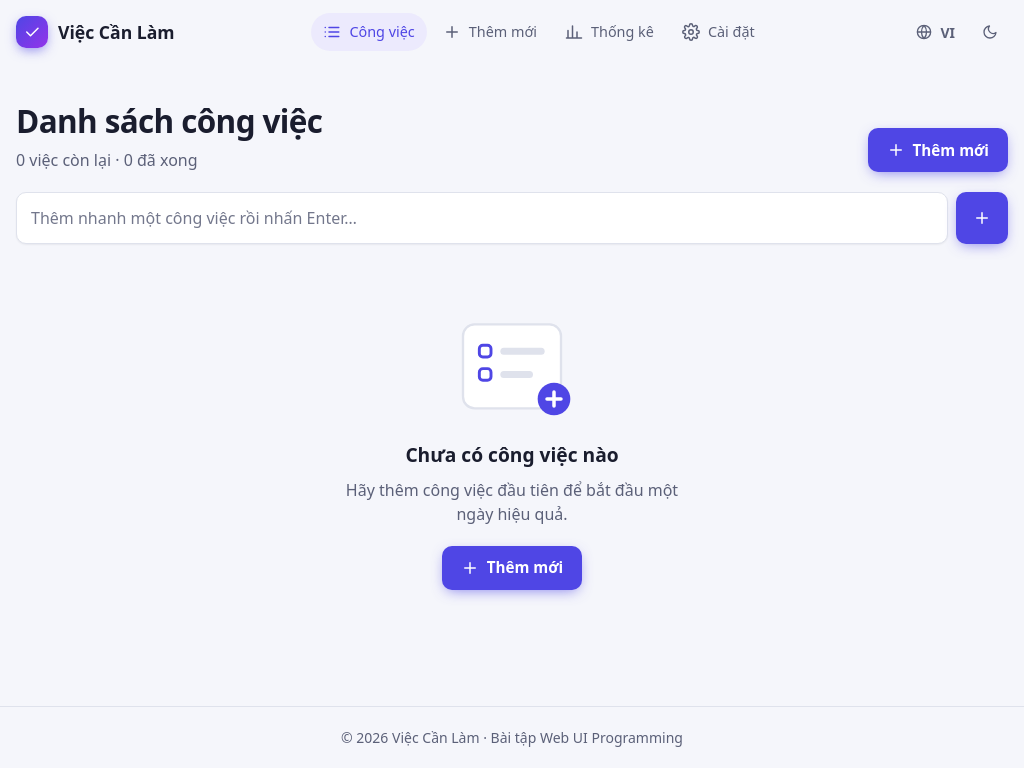
it: Todo App (UI) › chuyển ngôn ngữ sang tiếng Anh
Step 1. Click the button with aria-label "Chuyển ngôn ngữ" → click(936, 32), box [904,14,968,50]
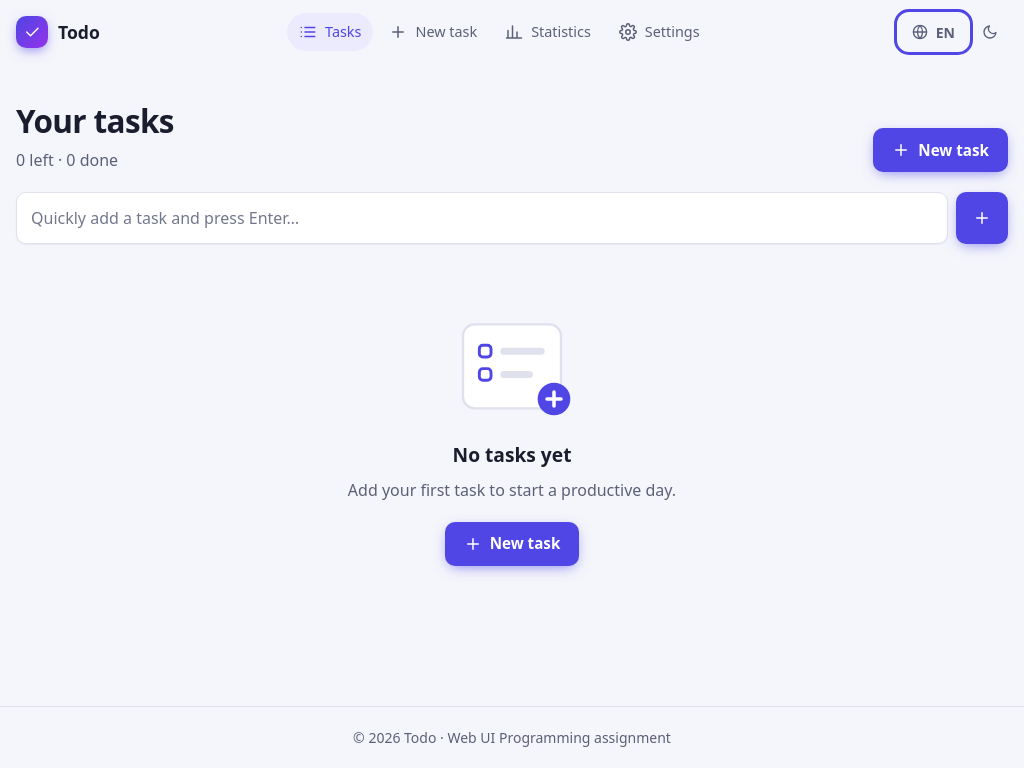
Now the heading "No tasks yet" is shown, box [452,441,571,470]
